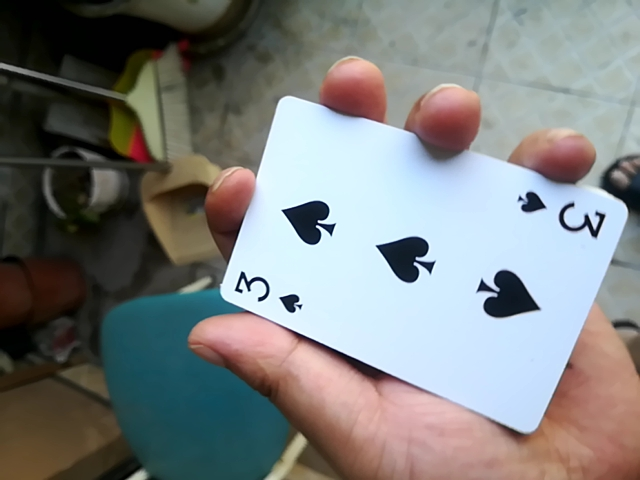ht 3: (196, 84, 632, 444)
